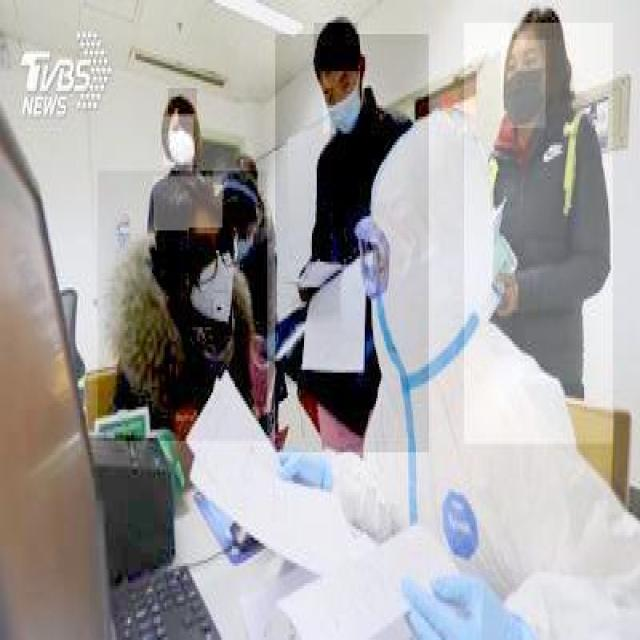face_mask: (188, 228, 234, 330), (500, 40, 546, 128), (323, 63, 360, 134), (163, 116, 195, 168)
head_nohelmet: (154, 176, 224, 234), (314, 23, 360, 71), (508, 11, 562, 43), (168, 88, 198, 117)
person: (276, 34, 430, 455), (464, 22, 614, 446), (98, 170, 268, 444)
